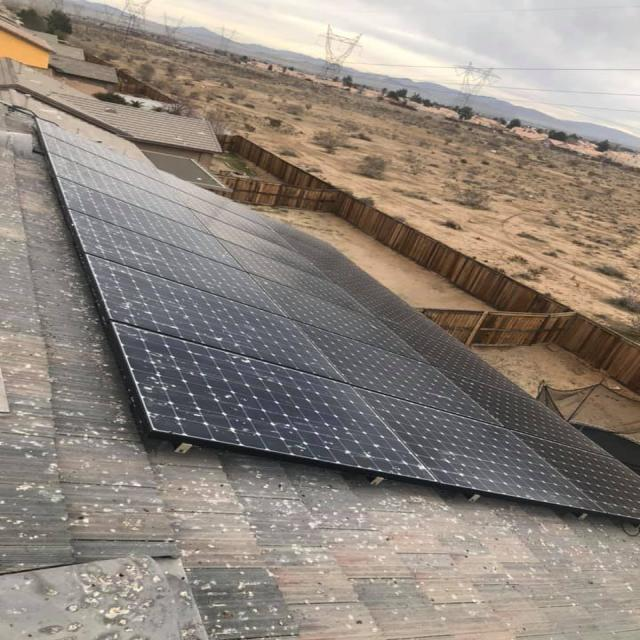dust-solar-panel: (34, 116, 605, 514)
